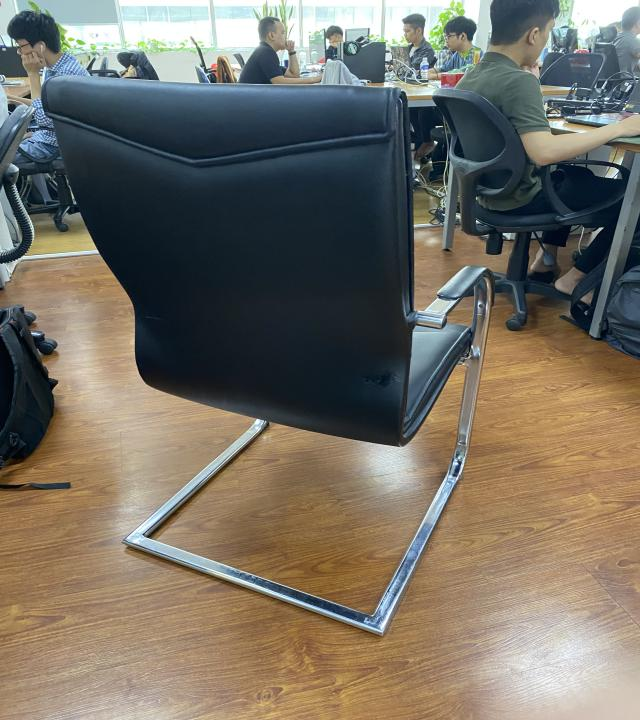SS_03: (38, 72, 496, 639)
